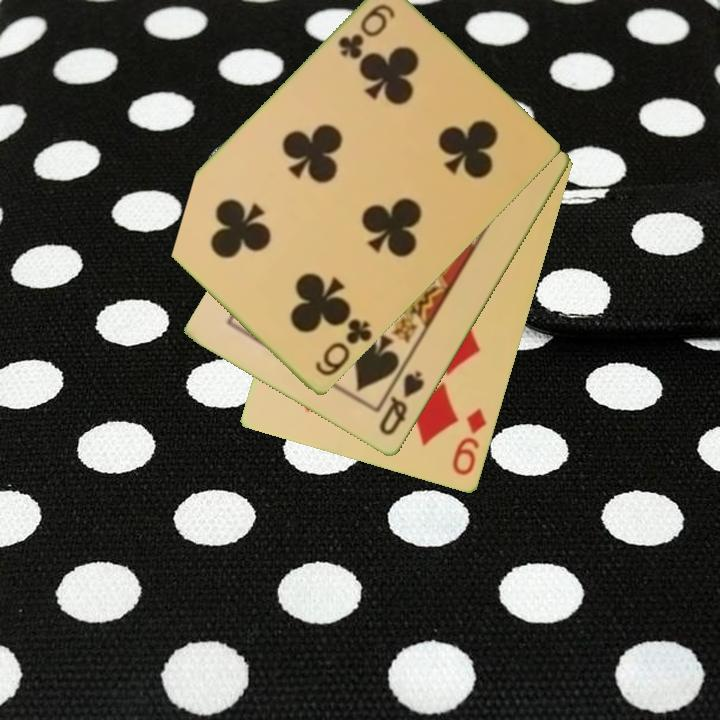6c: (312, 315, 375, 380), (334, 1, 398, 63)
9d: (449, 405, 490, 479)
Qs: (375, 367, 428, 439)
